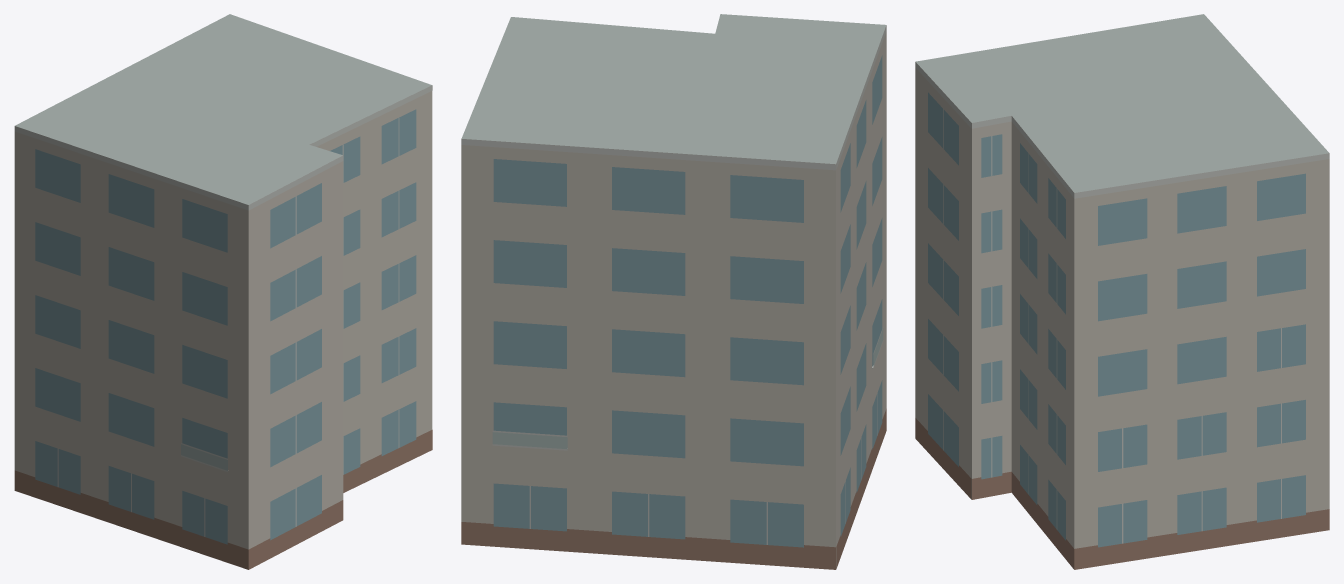
The model's file is survey-upis-33025556.glb.
3 renders of one model, left to right at view 1: azimuth 30°, elevation 25°; view 2: azimuth 150°, elevation 25°; view 3: azimuth 270°, elevation 25°, orthographic. The views are drawn at different scales.
Parts seen in each view (by area): view 1: survey-upis-33025556.tmp; view 2: survey-upis-33025556.tmp; view 3: survey-upis-33025556.tmp.
Boxes of the visible parts, x1,y1,x2,y2 form: survey-upis-33025556.tmp: (14,14,432,569); survey-upis-33025556.tmp: (461,14,886,569); survey-upis-33025556.tmp: (915,14,1329,569).
Size of the model in its own units: 16.41 by 16.1 by 16.05.
